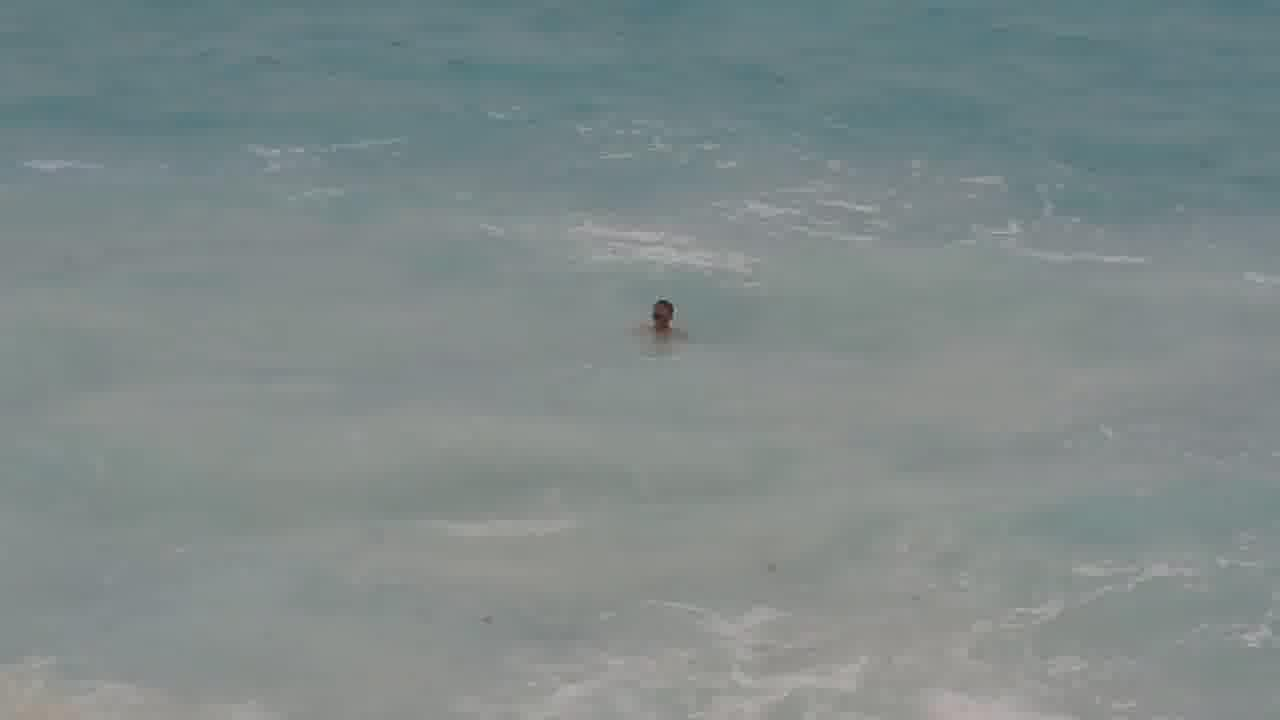swimmer: (634, 282, 682, 347)
